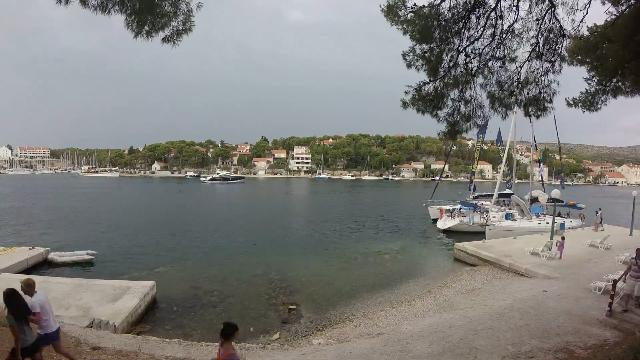speedboat: (194, 166, 253, 186)
